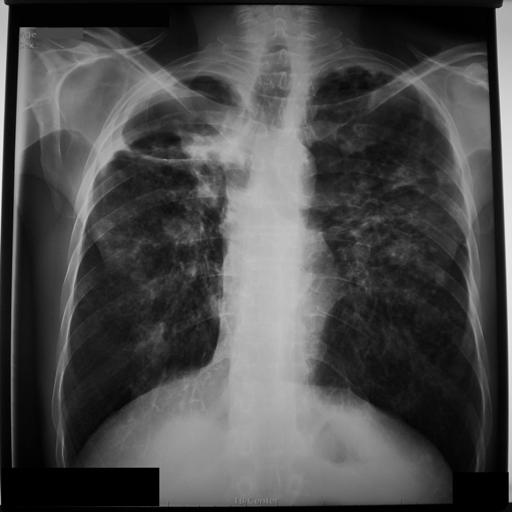TB: (348, 163, 459, 298), (138, 183, 211, 357), (101, 100, 243, 176)
